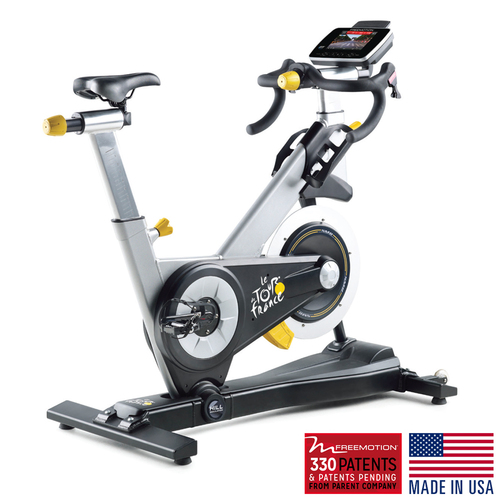gym_bike: (37, 18, 437, 468)
